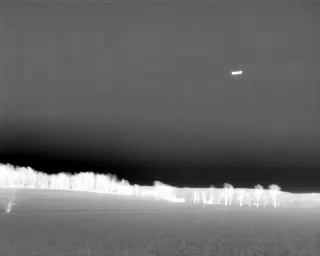DRONE: (228, 66, 246, 80)
